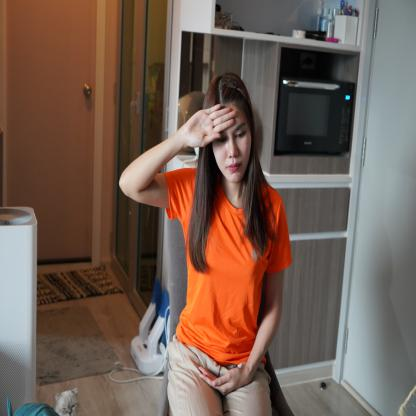Sick: (176, 96, 240, 154)
